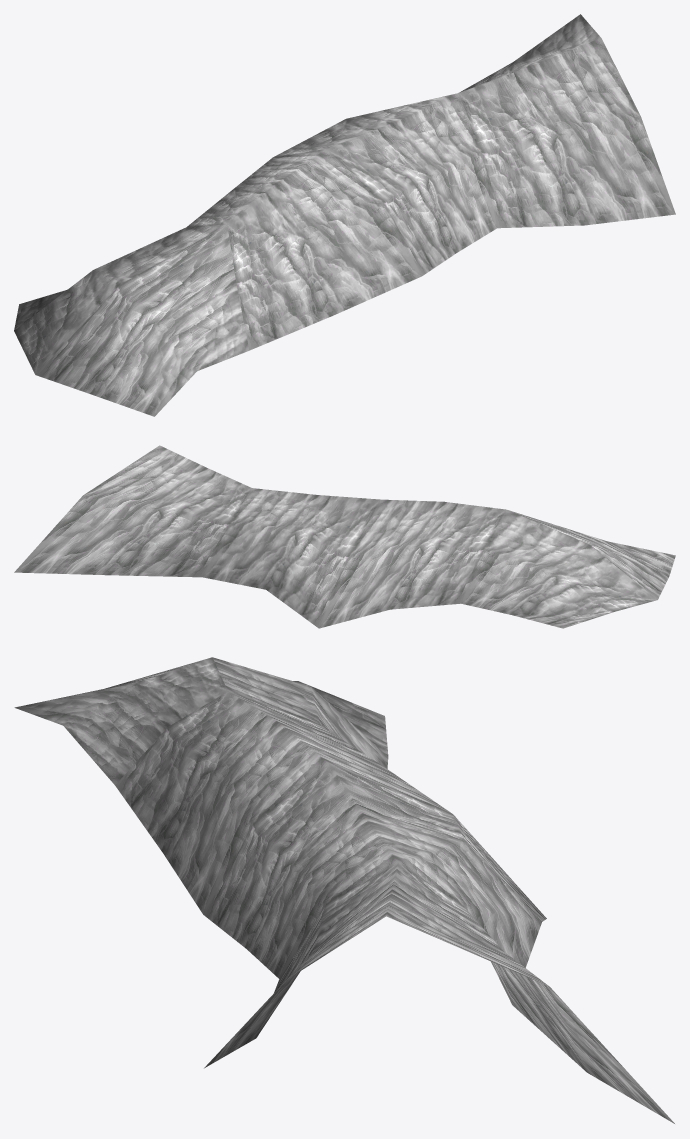
Rendered from SWORDLIGHT20_PS-AREA03_45.fbx.
The picture shows the model from 3 angles, top to bottom: view 1: azimuth 30°, elevation 25°; view 2: azimuth 150°, elevation 25°; view 3: azimuth 270°, elevation 25°; orthographic projection. The views are drawn at different scales.
Visible parts, largest first — view 1: SWORDLIGHT20_PS-AREA03_45; view 2: SWORDLIGHT20_PS-AREA03_45; view 3: SWORDLIGHT20_PS-AREA03_45.
Boxes of the visible parts, x1=… form: SWORDLIGHT20_PS-AREA03_45: x1=14, y1=14, x2=675, y2=416; SWORDLIGHT20_PS-AREA03_45: x1=14, y1=445, x2=675, y2=628; SWORDLIGHT20_PS-AREA03_45: x1=14, y1=657, x2=674, y2=1123.
Size of the model in its own units: 314656 by 59445 by 196818.
1 material, 1 textured.
